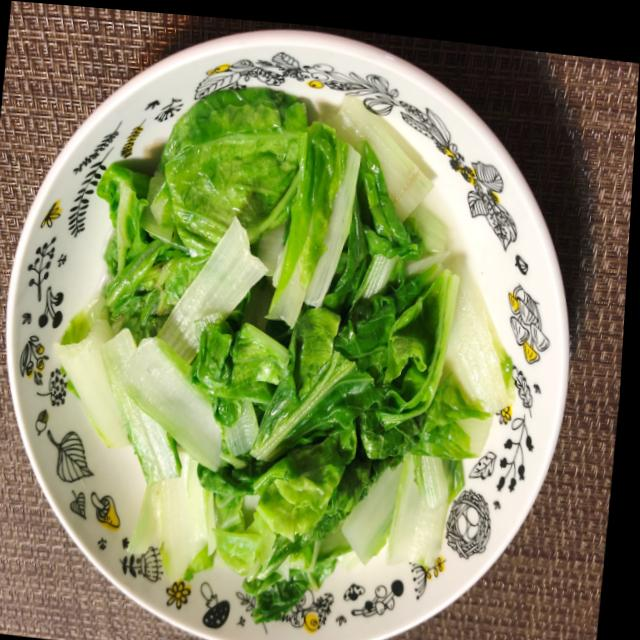chinese_cabbage: (23, 55, 538, 640)
